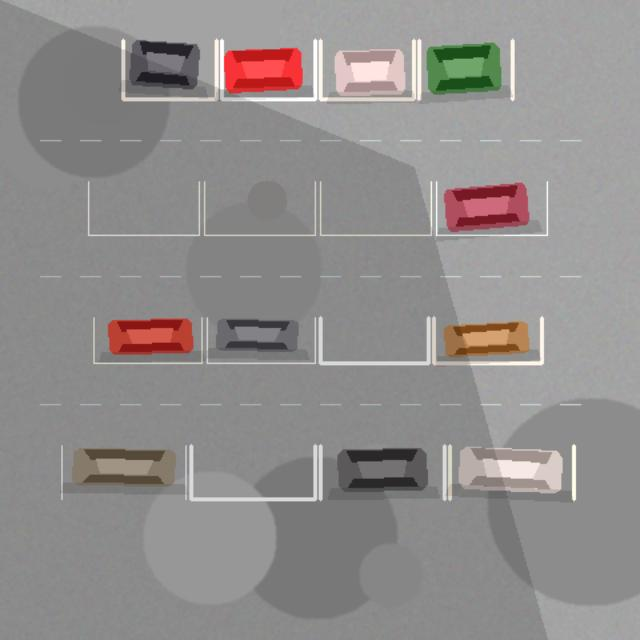space-empty: (191, 445, 315, 499), (88, 181, 199, 235), (204, 181, 315, 235), (320, 181, 431, 235), (320, 317, 428, 363)
space-occupied: (61, 445, 185, 499), (320, 445, 444, 499), (449, 445, 573, 499), (436, 181, 547, 235), (221, 40, 315, 99), (123, 40, 216, 99), (320, 40, 413, 99), (419, 40, 512, 99), (93, 317, 201, 363), (207, 317, 315, 363), (433, 317, 541, 363)
